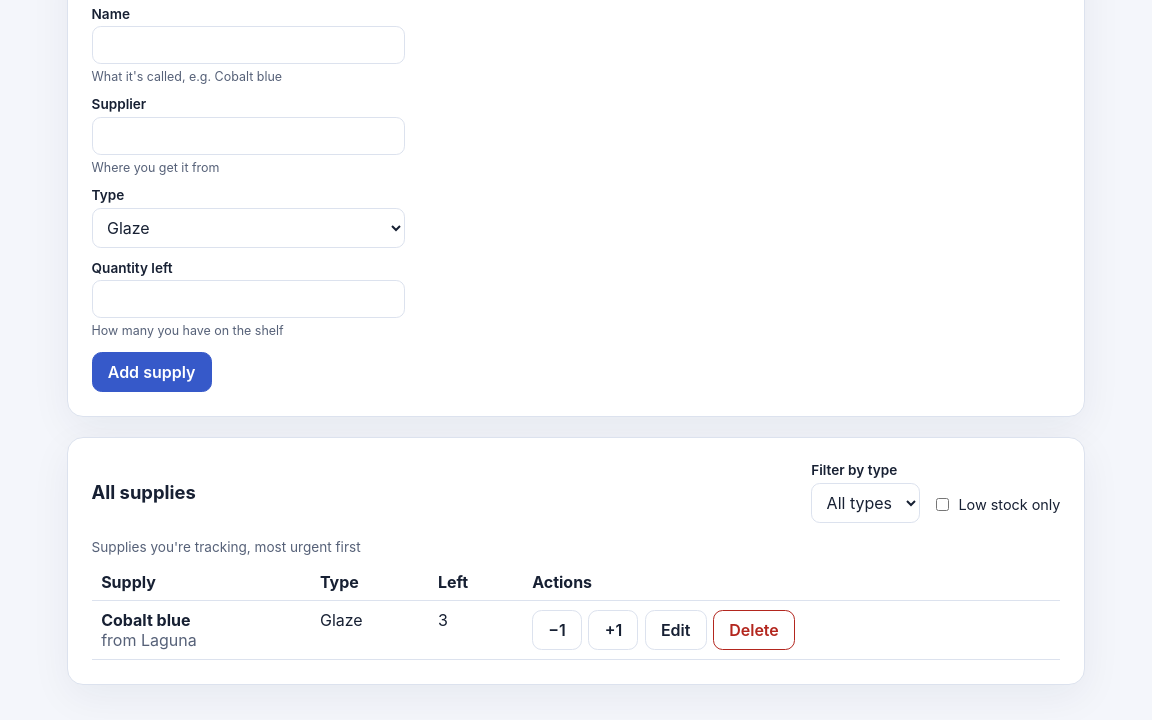
Test: spotting low stock › jumps out when a supply drops to a couple left
This screenshot has width=1152, height=720.
(page scrolled)
Check: the table does not show "Low"
Click the button named "Use one Cobalt blue".
click(557, 630)  # box [532,610,582,650]
(page scrolled)
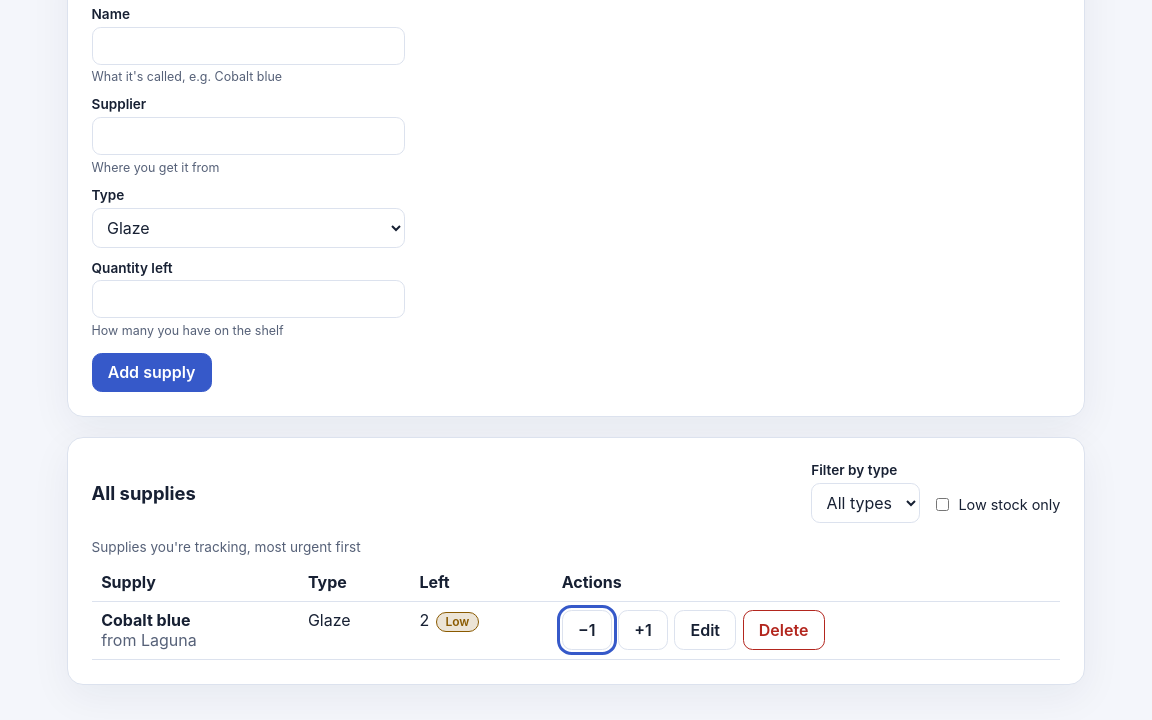
Click the button named "Use one Cobalt blue".
click(587, 630)  # box [562,610,612,650]
(page scrolled)
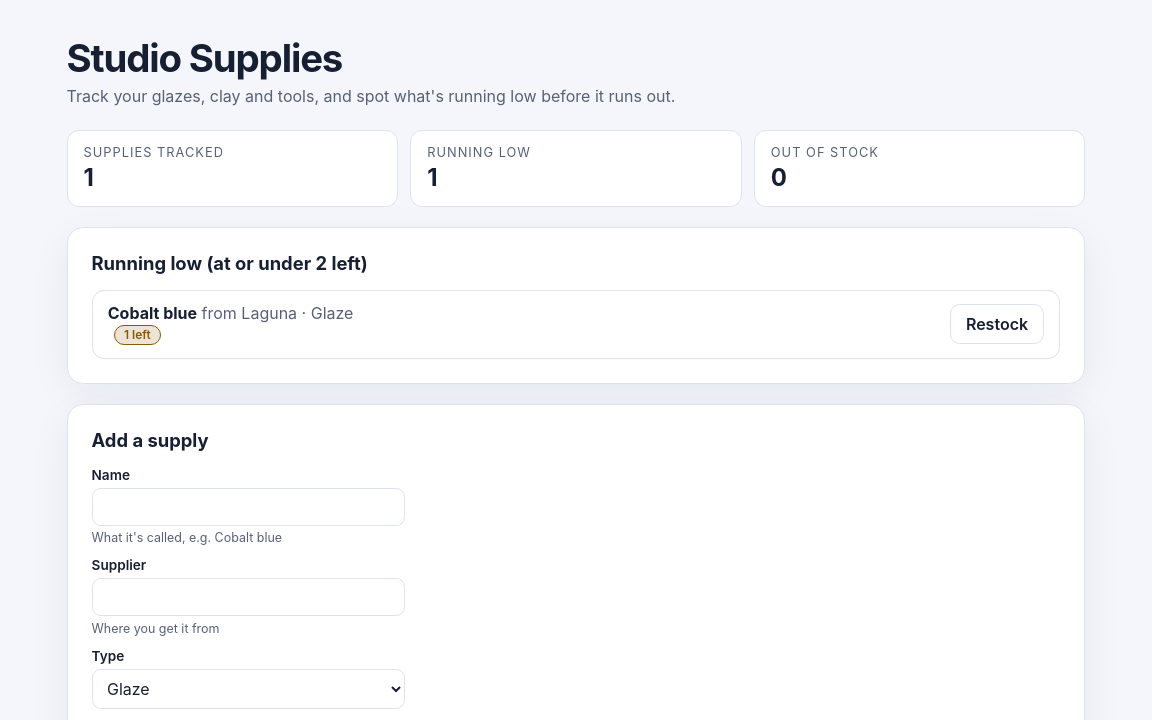
Check: the text "Cobalt blue" is shown, box [108,303,197,323]
Check: the text "Running low" shows "1", box [427,163,438,192]
Check: the text "1 left" is shown, box [114,325,160,345]
